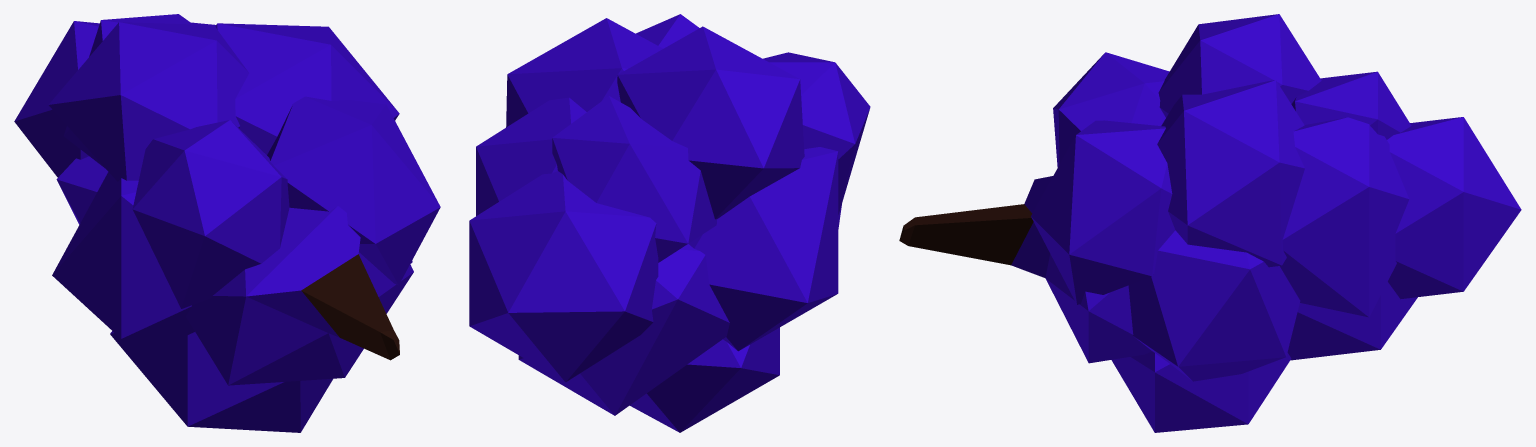
The model's file is BigPurpleGrape.fbx.
The picture shows the model from 3 angles, left to right: view 1: azimuth 30°, elevation 25°; view 2: azimuth 150°, elevation 25°; view 3: azimuth 270°, elevation 25°; orthographic projection. The views are drawn at different scales.
Parts seen in each view (by area): view 1: BigPurpleGrape; view 2: BigPurpleGrape; view 3: BigPurpleGrape.
Part boxes in pixels (x1,y1,x2,y2): BigPurpleGrape: (14,14,440,432); BigPurpleGrape: (469,14,870,432); BigPurpleGrape: (899,14,1521,432).
Bounding box in the file's own units: 3.3 × 3.86 × 5.94.
